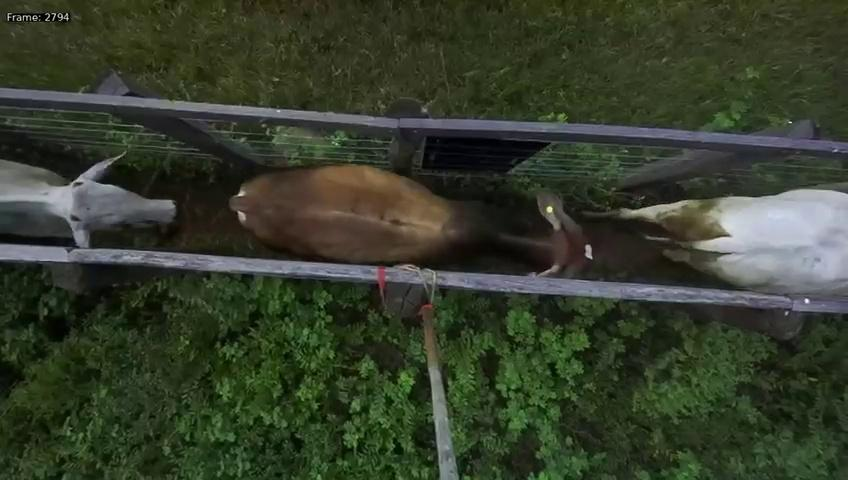cattle: (224, 157, 597, 291)
